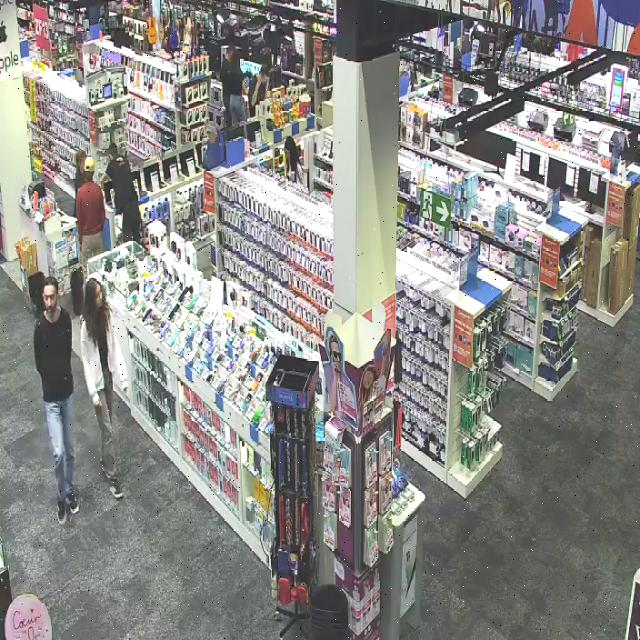hands: (122, 379, 129, 395), (94, 399, 101, 407)
person: (34, 277, 78, 523), (81, 277, 127, 498), (103, 143, 140, 242), (75, 157, 105, 270), (285, 136, 301, 183)
